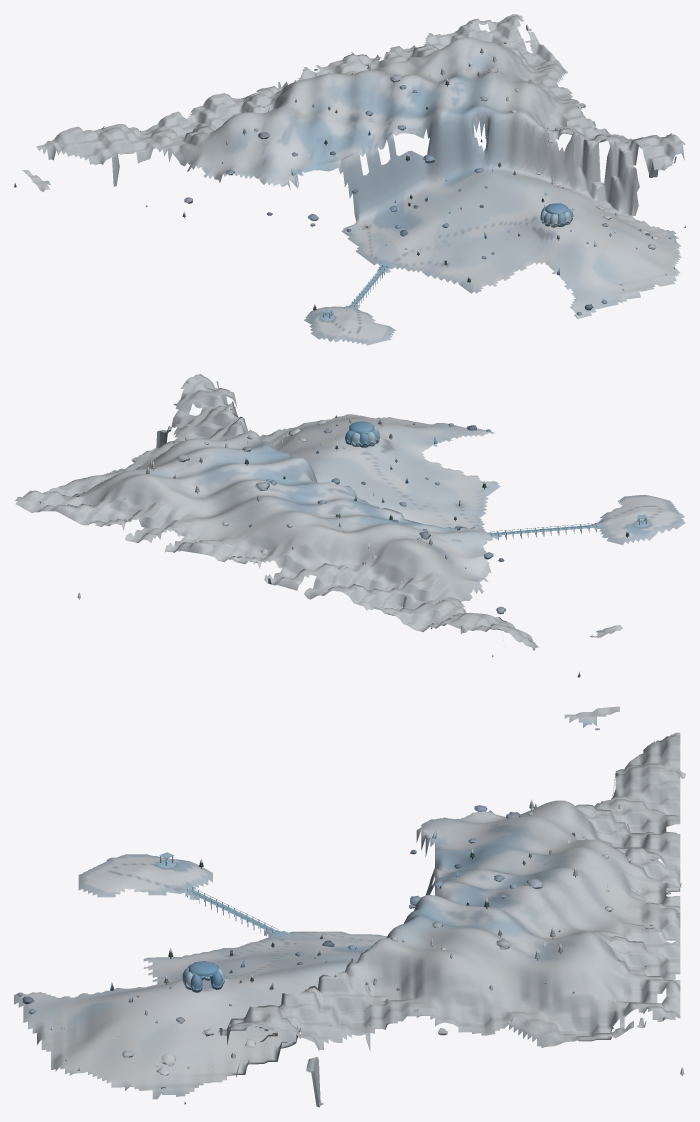
Rendered from frost_isl_frostreach.glb.
The picture shows the model from 3 angles, top to bottom: view 1: azimuth 30°, elevation 25°; view 2: azimuth 150°, elevation 25°; view 3: azimuth 270°, elevation 25°; orthographic projection. The views are drawn at different scales.
Visible parts, largest first — view 1: frost_isl_frostreach; view 2: frost_isl_frostreach; view 3: frost_isl_frostreach.
Part boxes in pixels (x1,y1,x2,y2): frost_isl_frostreach: [14, 14, 685, 345]; frost_isl_frostreach: [15, 374, 685, 677]; frost_isl_frostreach: [14, 706, 685, 1107].
Size of the model in its own units: 344 by 64.93 by 290.
